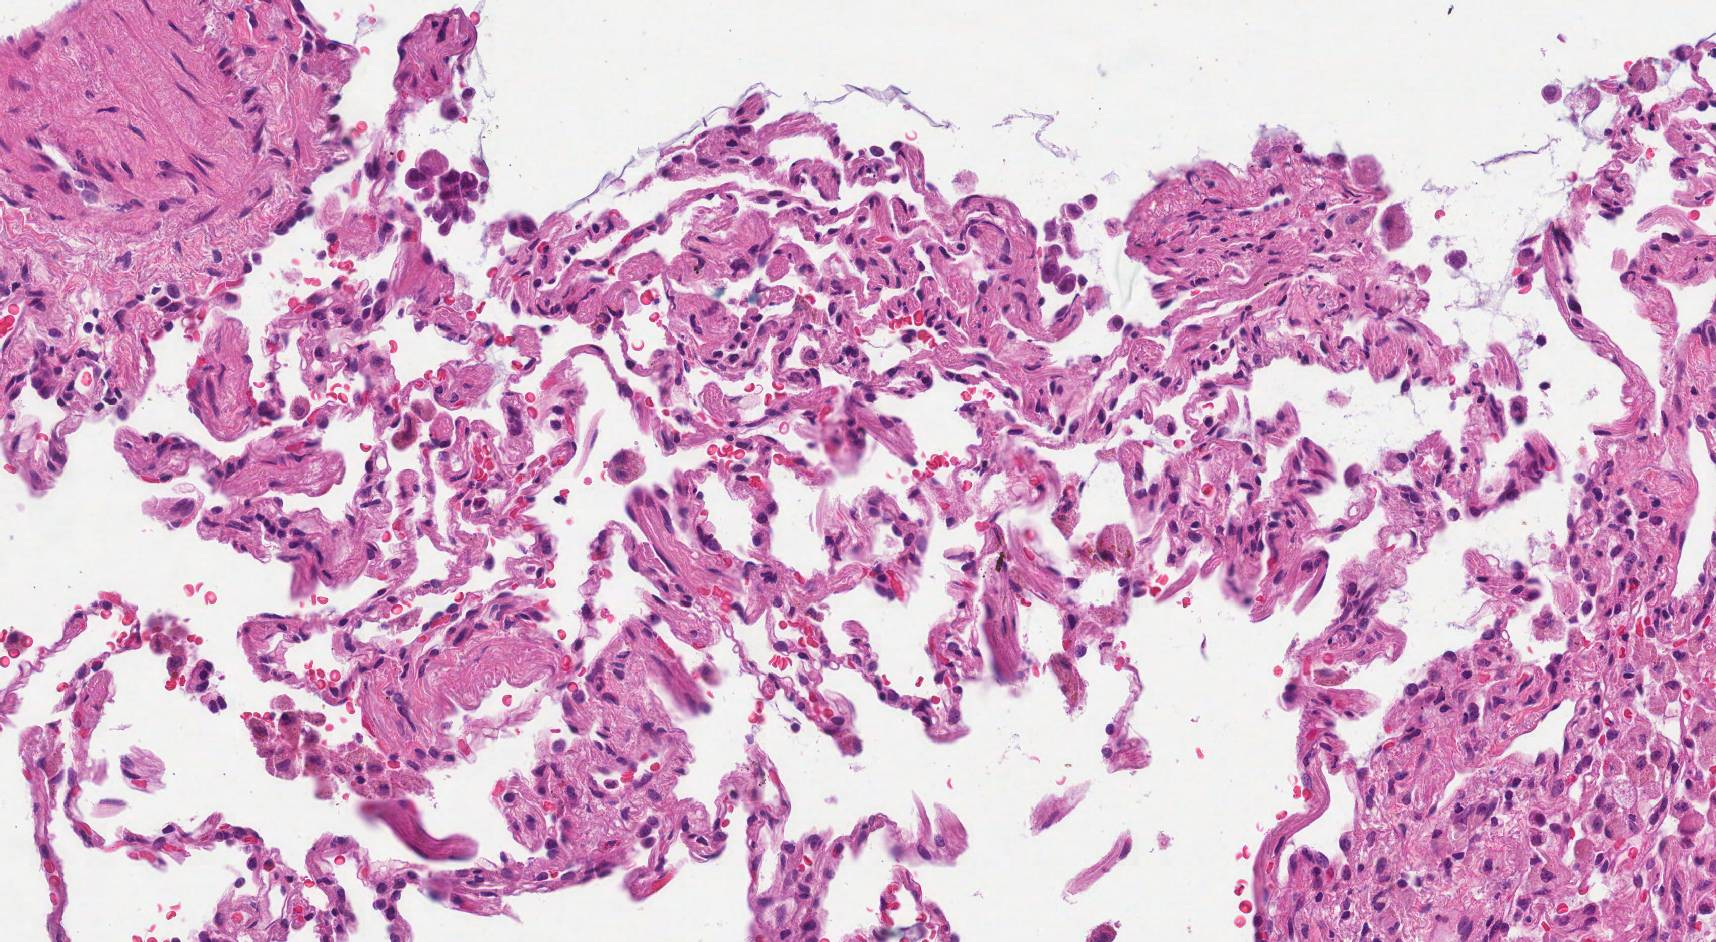stas: (406, 160, 484, 239), (1041, 189, 1098, 293), (506, 211, 536, 240)
